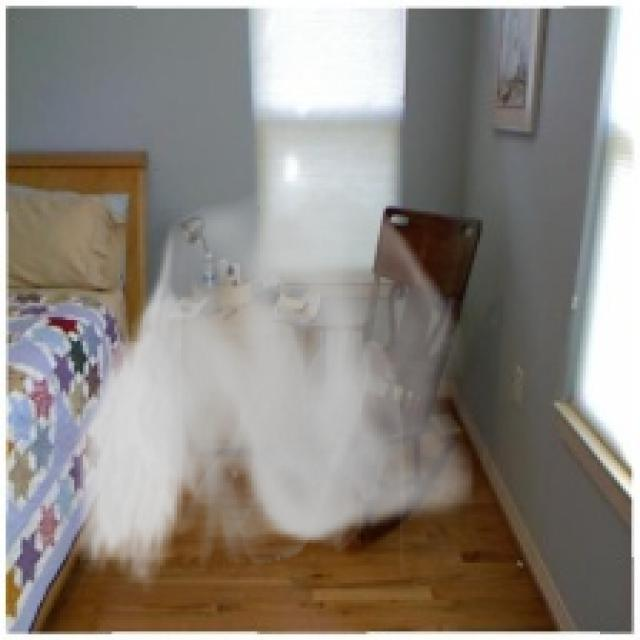Smoke: (68, 172, 474, 592)
